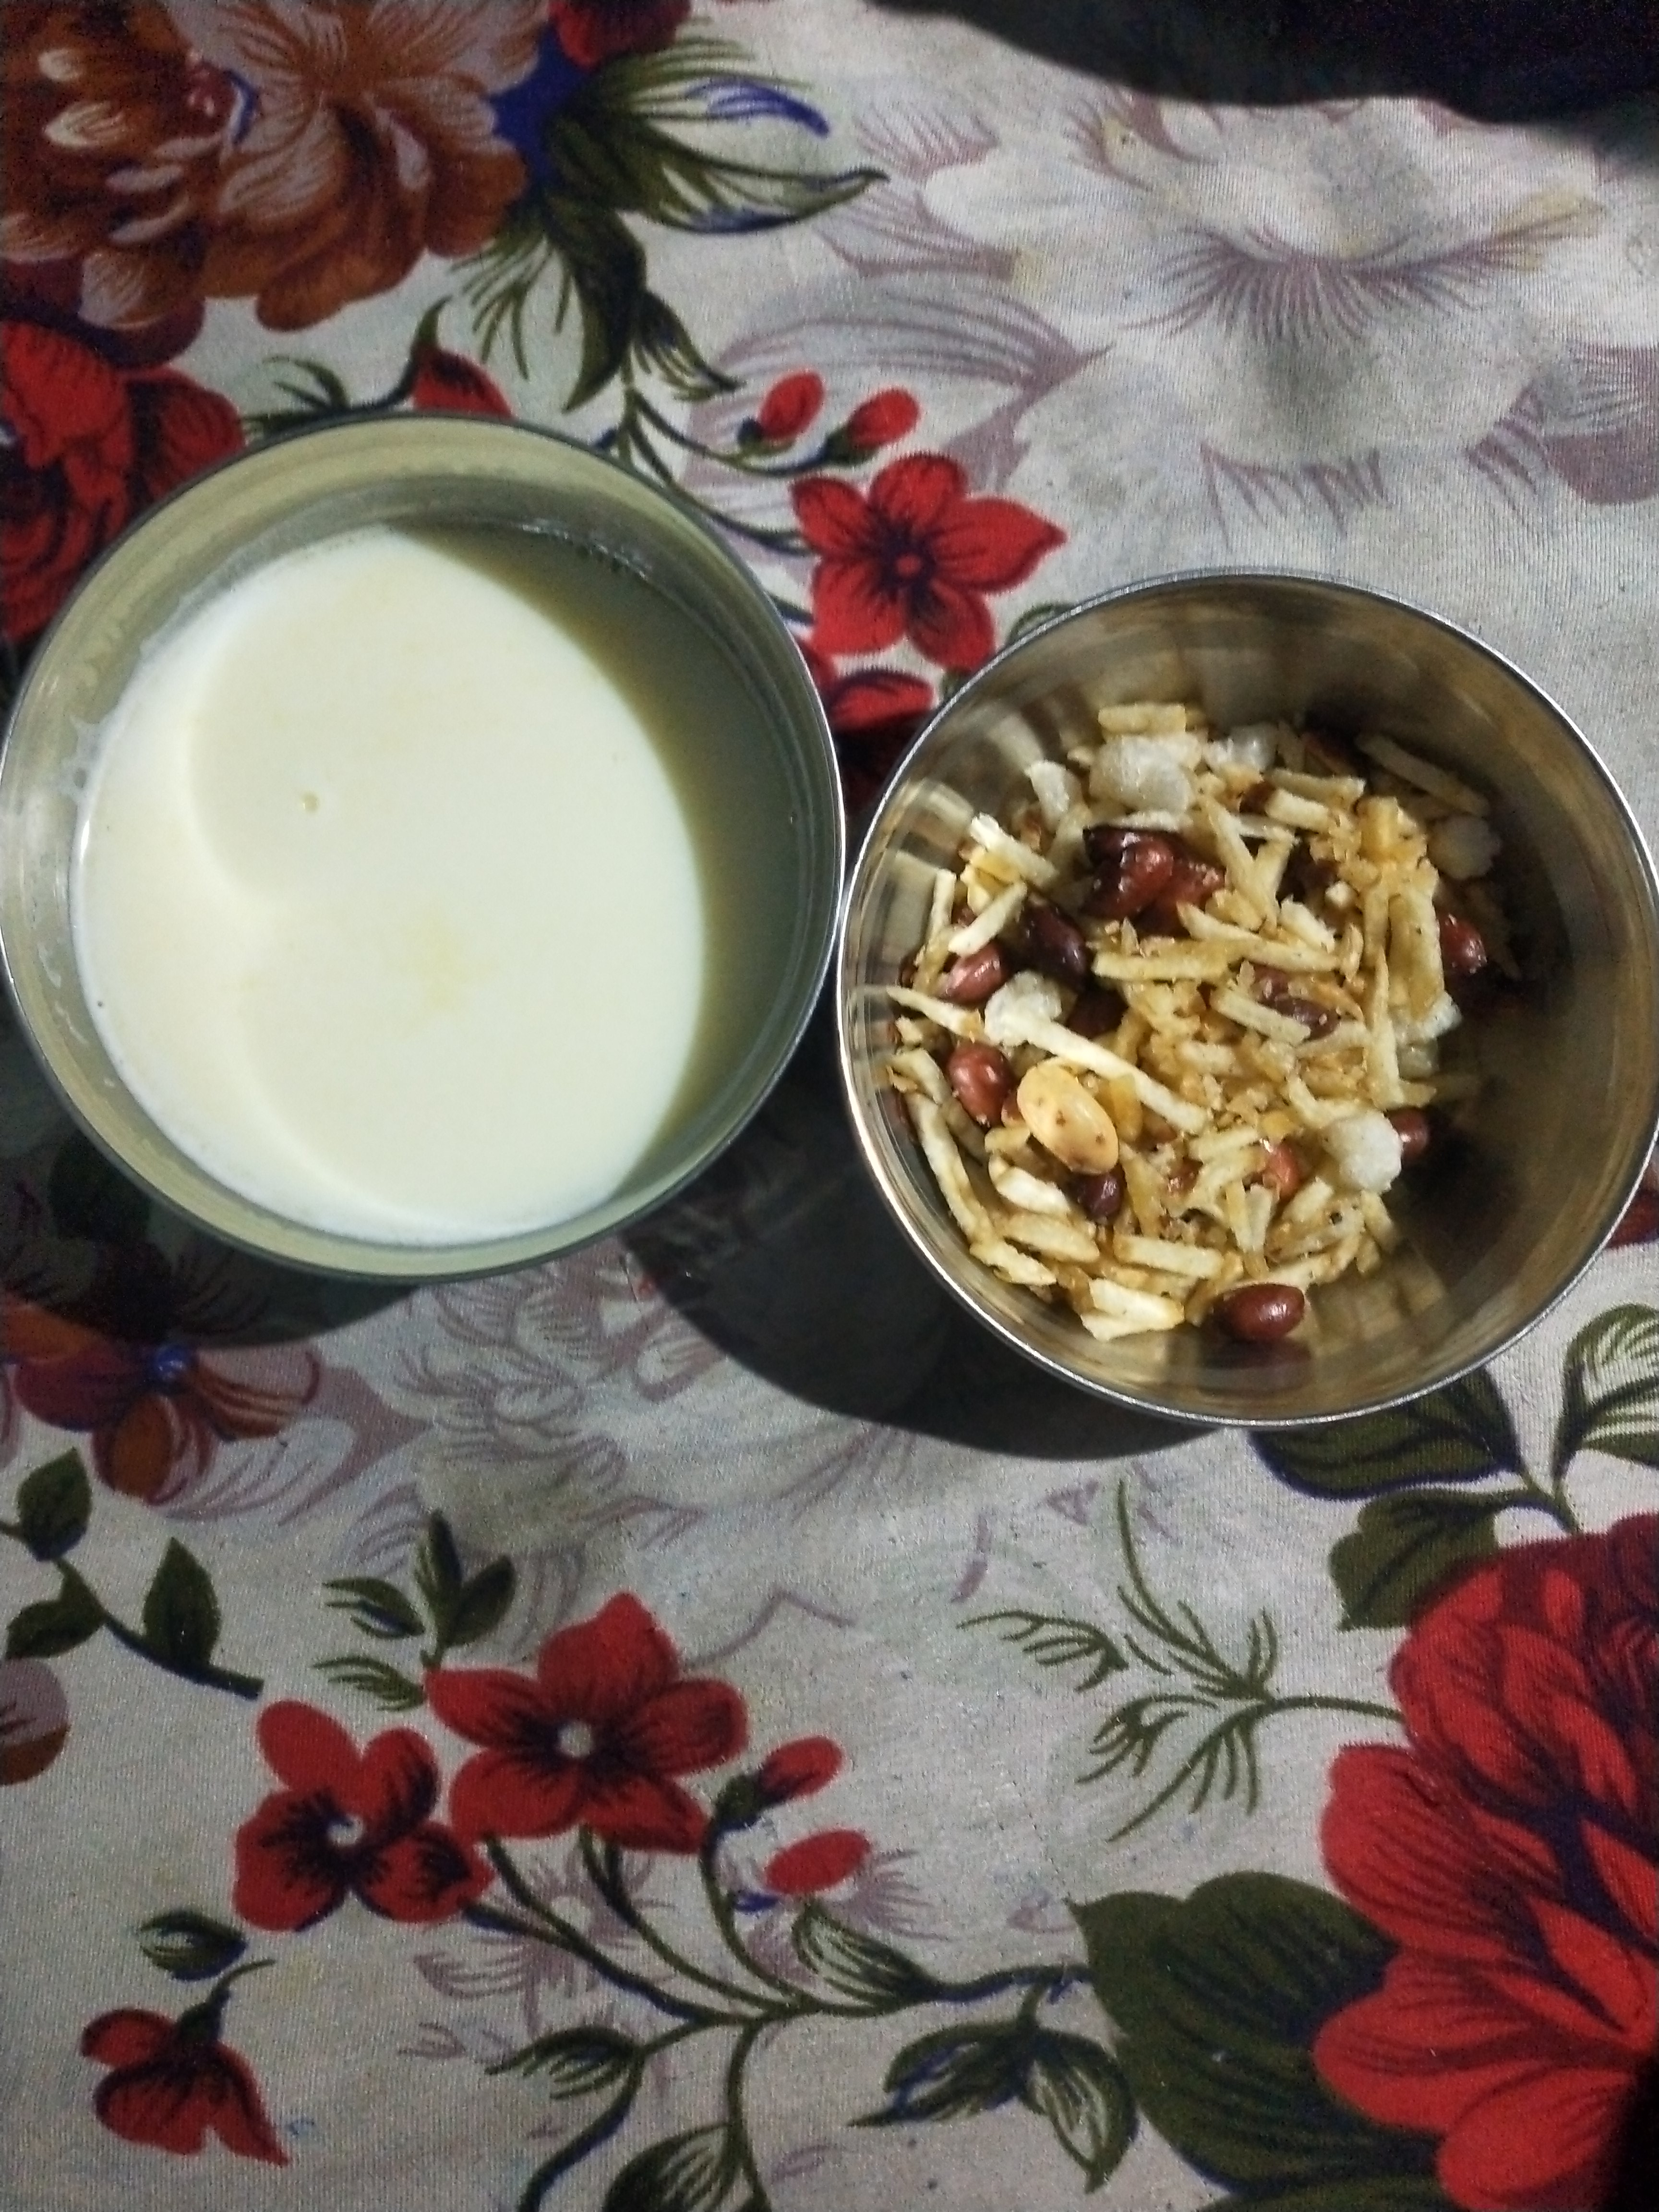food: (54, 505, 826, 1259), (861, 690, 1556, 1378)
